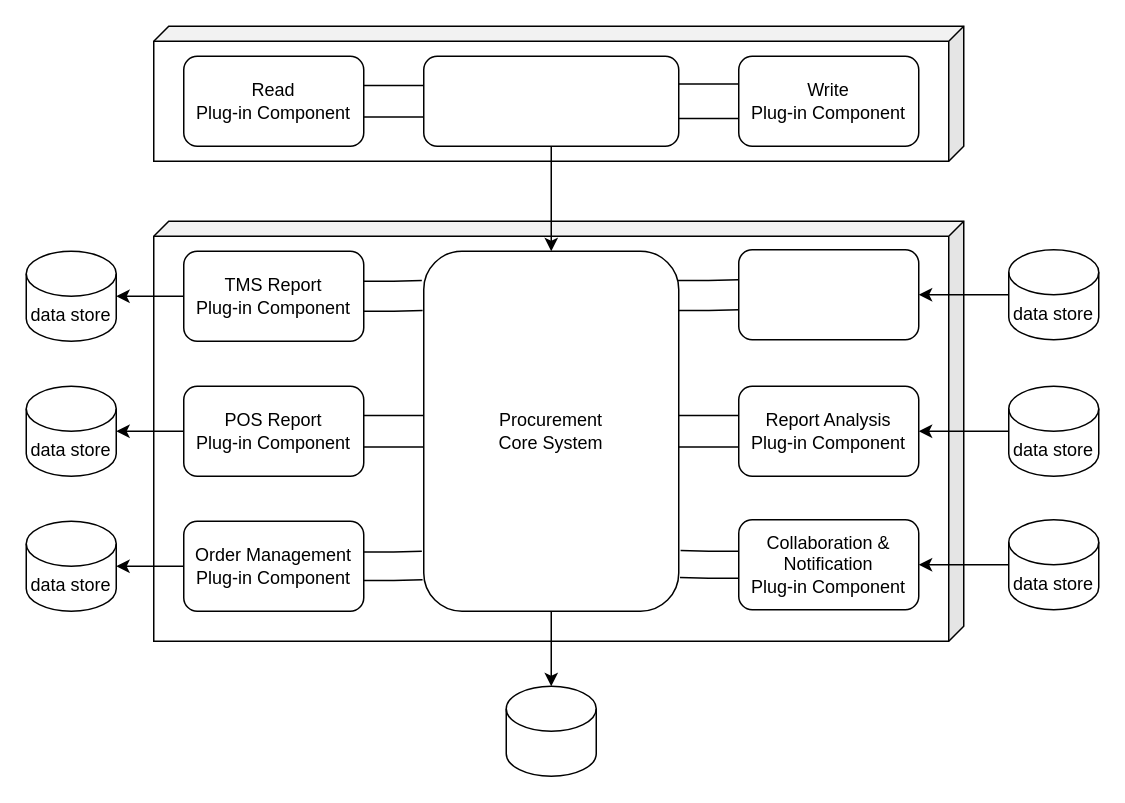
Some shapes in this 1125 by 803 pixel diagram are drawn without their labels. Each missing label, with the centre of its shape:
"database" goes at point 550,730.
"User Interface Core System" goes at point 550,100.
"WMS Report Plug-in Component" goes at point 828,294.
